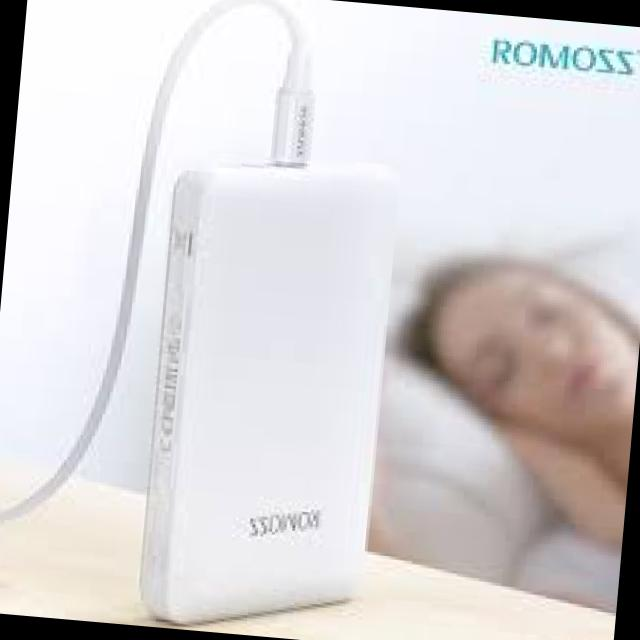portable-charger: (133, 142, 396, 639)
